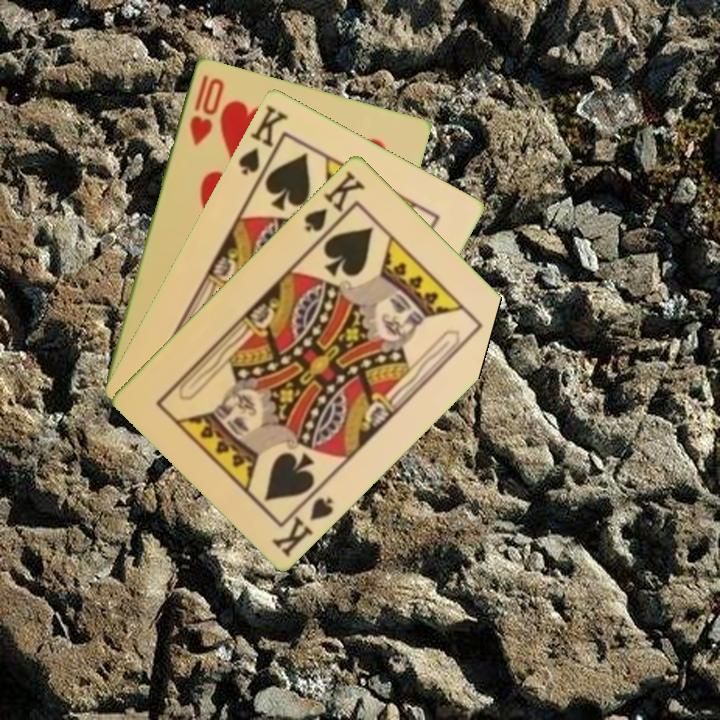10h: (185, 71, 227, 148)
Ks: (300, 166, 368, 243), (268, 482, 336, 559), (234, 100, 291, 178)
